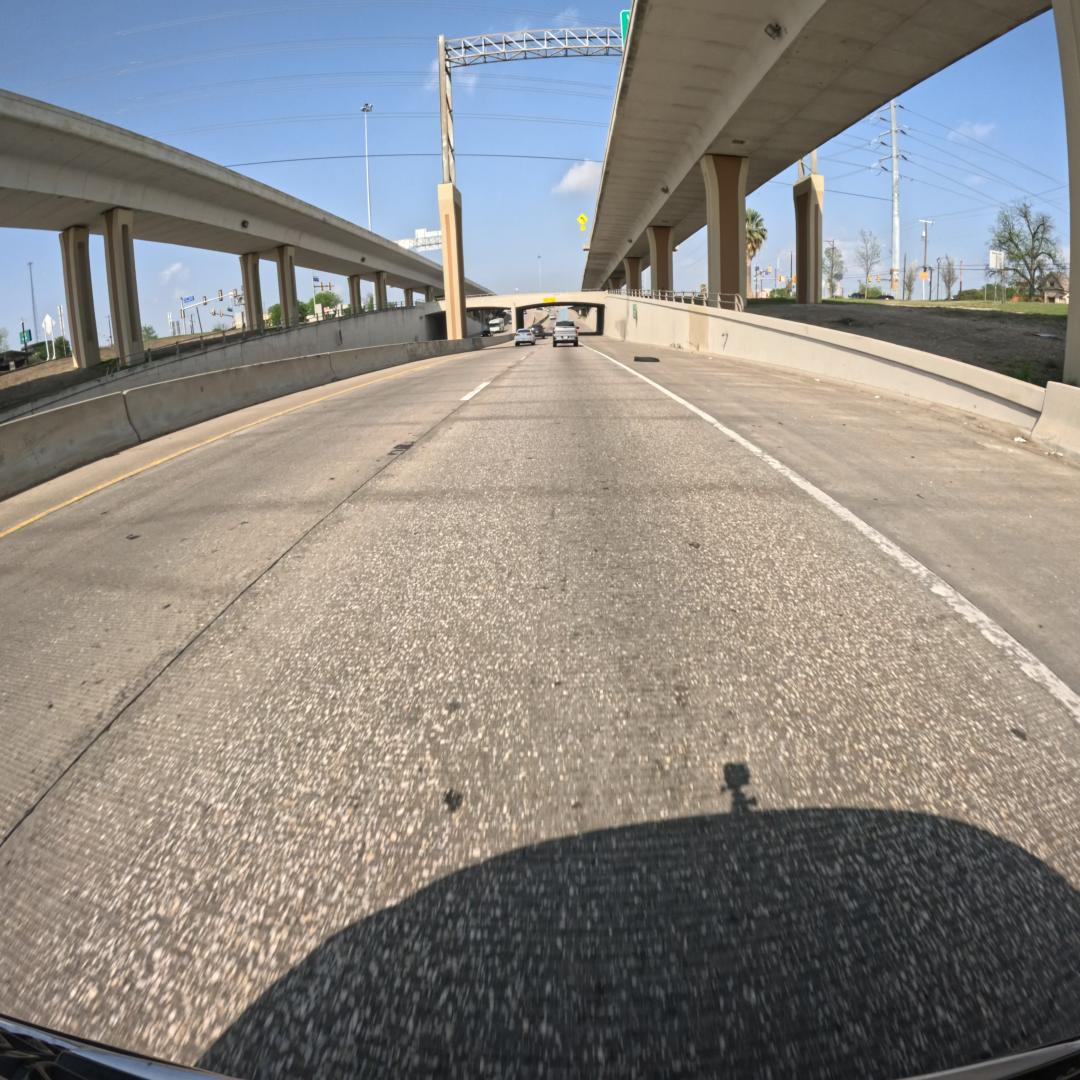lane0: (0, 346, 1080, 1080)
lane1: (0, 347, 526, 843)
